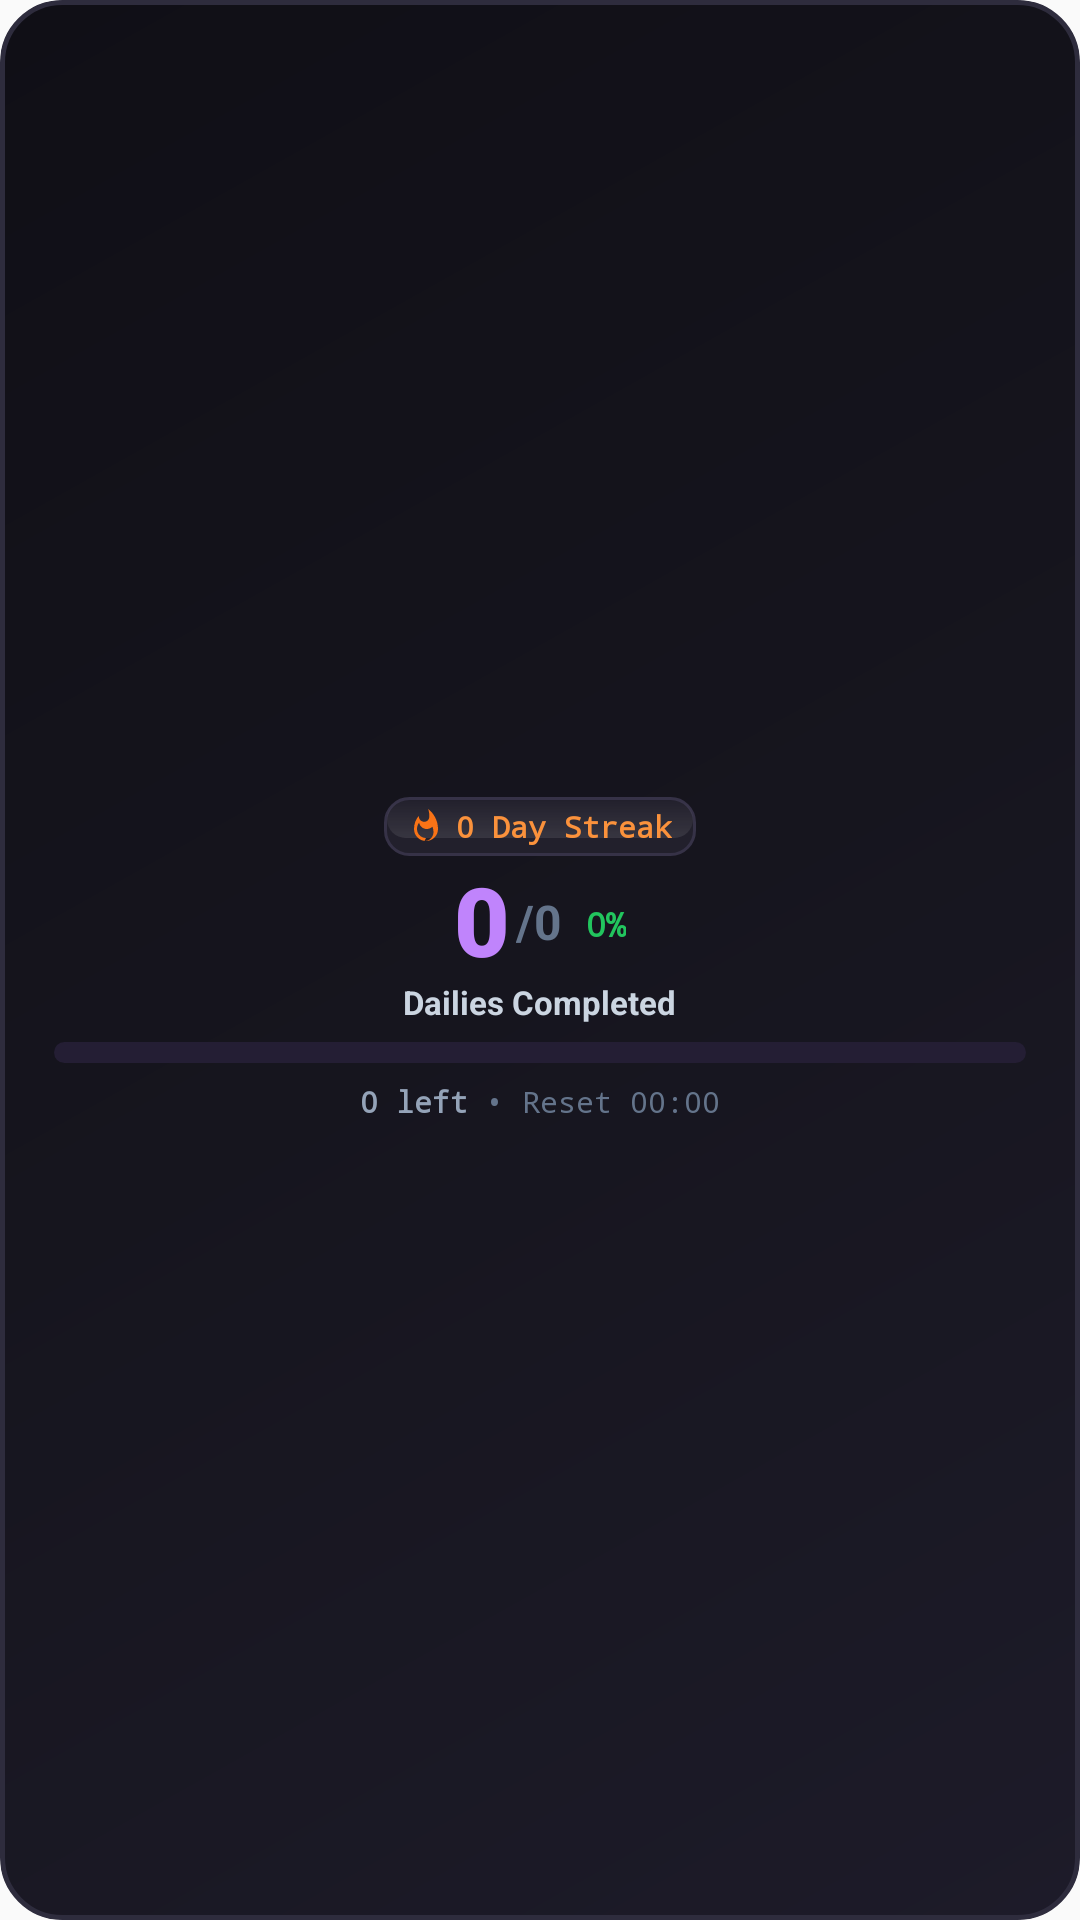

Icon click points for this 1080 × 1920 phone screenshot, format point (x, y):
widget flame: point (426, 825)
